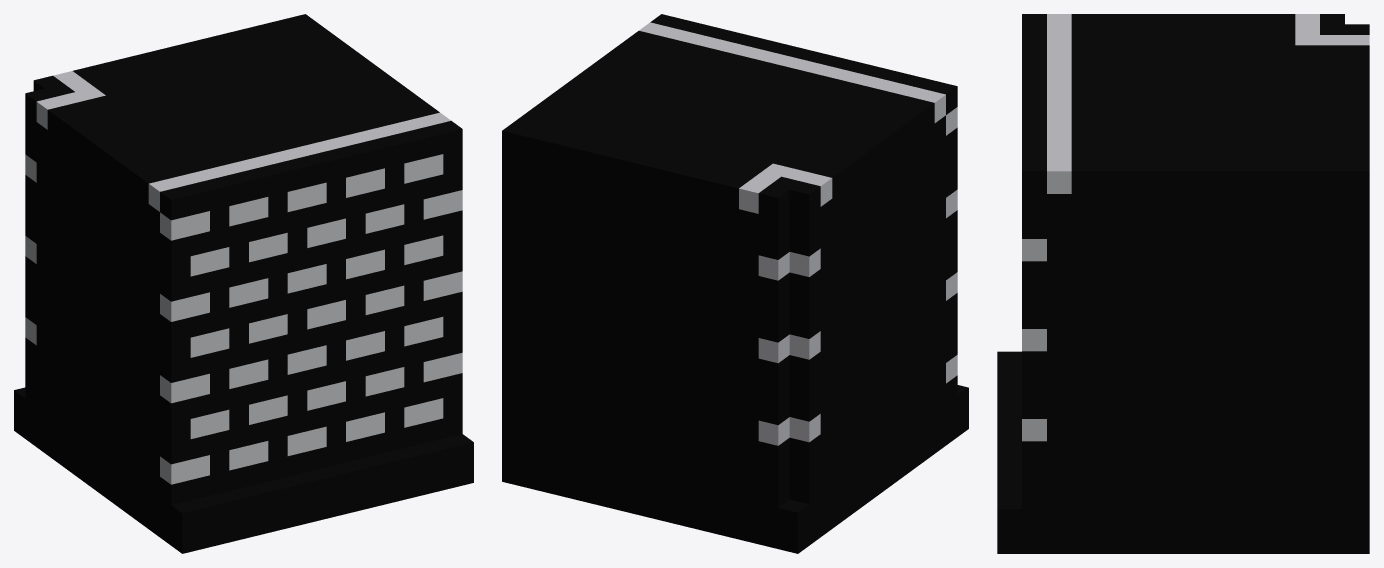
Rendered from dungeon_d_a_outer_wall_segment_d.obj.
3 views of the same model, side by side, from view 1: azimuth 30°, elevation 25°; view 2: azimuth 150°, elevation 25°; view 3: azimuth 270°, elevation 25° (orthographic). The views are drawn at different scales.
Bounding box in the file's own units: 1.5 × 1.7 × 1.5.
1 material, 1 textured.
